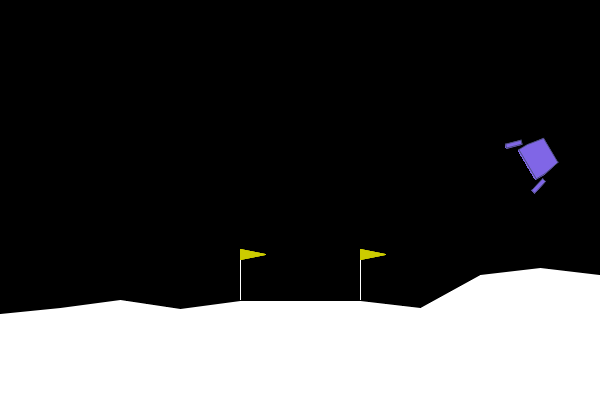lander: (502, 124, 567, 196)
